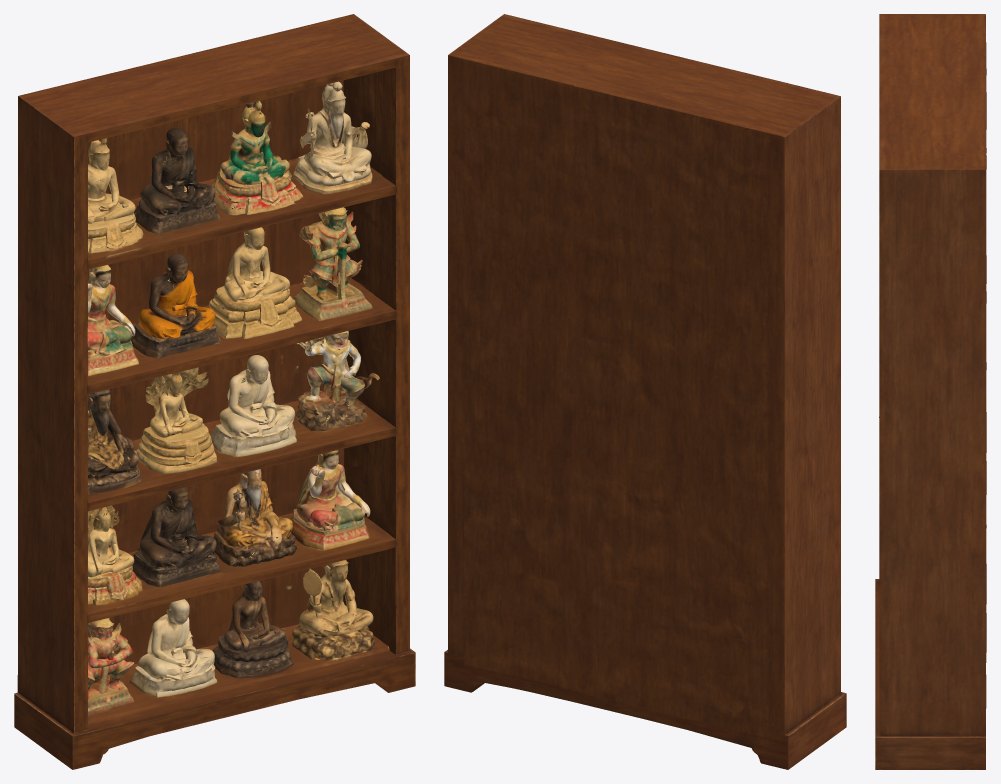
File: amushelf.glb
The picture shows the model from 3 angles, left to right: view 1: azimuth 30°, elevation 25°; view 2: azimuth 150°, elevation 25°; view 3: azimuth 270°, elevation 25°; orthographic projection. The views are drawn at different scales.
Visible parts, largest first — view 1: amushelf_near, amushelf_mid, amushelf_far; view 2: amushelf_mid, amushelf_near, amushelf_far; view 3: amushelf_mid, amushelf_near, amushelf_far.
Boxes of the visible parts, x1,y1,x2,y2 form: amushelf_near: [14, 14, 415, 769]; amushelf_mid: [14, 17, 413, 769]; amushelf_far: [18, 14, 409, 762]; amushelf_mid: [448, 14, 846, 769]; amushelf_near: [444, 14, 846, 769]; amushelf_far: [445, 22, 840, 761]; amushelf_mid: [875, 14, 986, 769]; amushelf_near: [875, 14, 986, 769]; amushelf_far: [875, 14, 986, 739].
Bounding box in the file's own units: 1.08 × 1.9 × 0.3204.
Materials: 1 (1 with a texture image).
